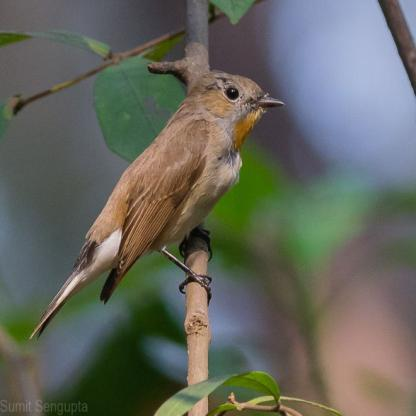Burung: (20, 66, 289, 347)
